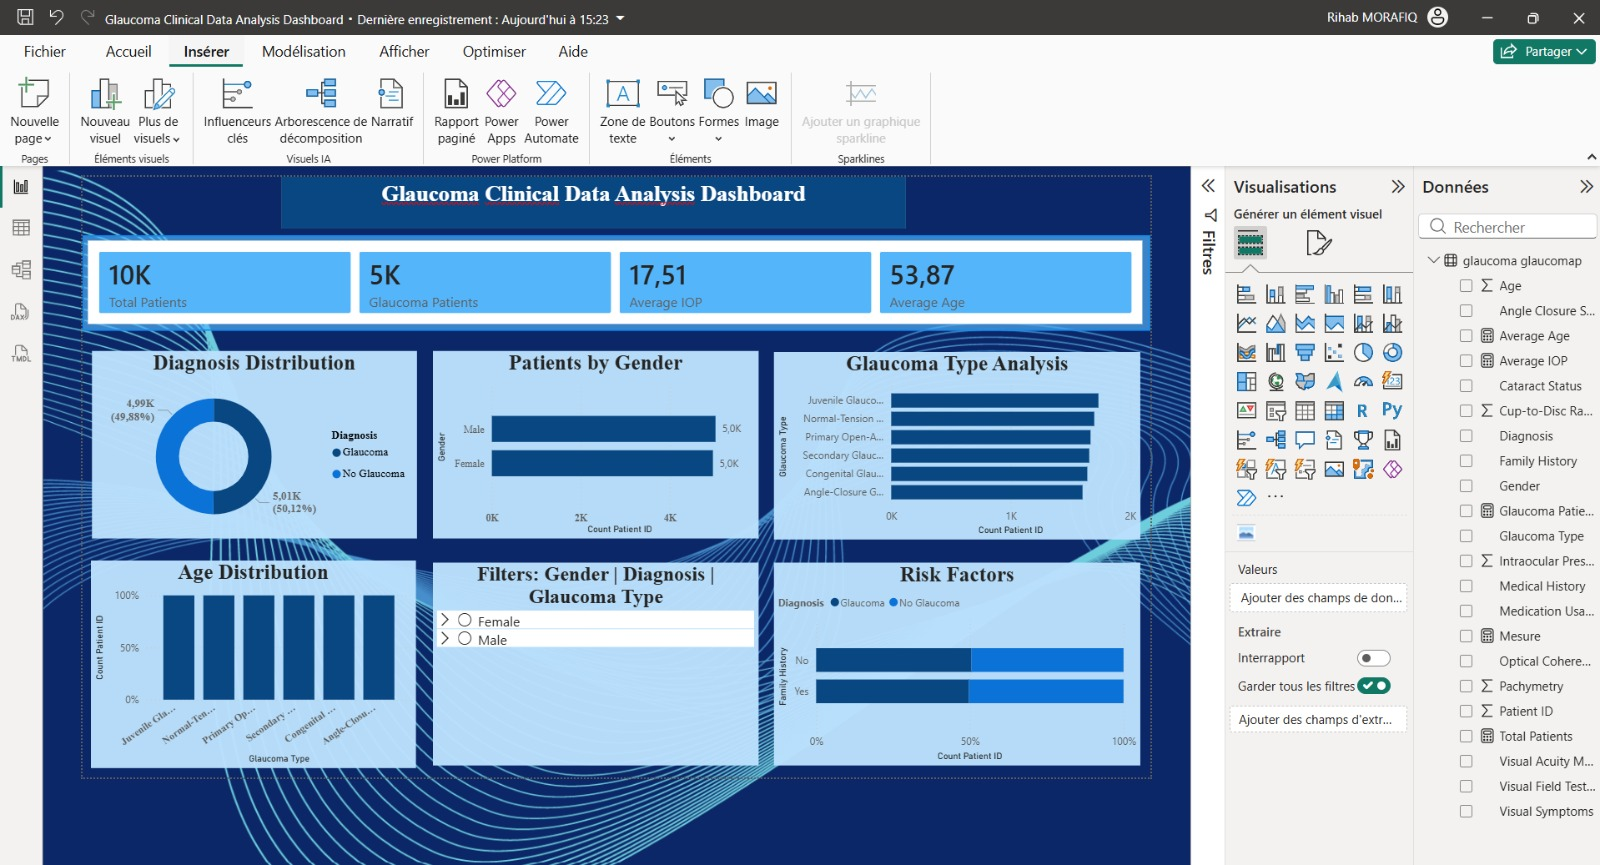

What the dashboard file says about the page in this screenshot:
{"tool":"powerbi","page":{"name":"Page 1","canvas":[1280,720],"ordinal":0},"visuals":[{"type":"cardVisual","fields":{"Data":["glaucoma glaucomap.Total Patients","glaucoma glaucomap.Glaucoma Patients","glaucoma glaucomap.Average IOP","glaucoma glaucomap.Average Age"]},"box":[0,70.2,1279.8,114.3],"z":0},{"type":"donutChart","title":"Diagnosis Distribution","fields":{"Category":["glaucoma glaucomap.Diagnosis"],"Y":["CountNonNull(glaucoma glaucomap.Patient ID)"]},"box":[10.7,208.3,389.3,225],"z":1},{"type":"barChart","title":"Patients by Gender","fields":{"Category":["glaucoma glaucomap.Gender"],"Y":["CountNonNull(glaucoma glaucomap.Patient ID)"]},"box":[420.2,208.3,390.5,225],"z":2},{"type":"barChart","title":"Glaucoma Type Analysis","fields":{"Category":["glaucoma glaucomap.Glaucoma Type"],"Y":["CountNonNull(glaucoma glaucomap.Patient ID)"]},"box":[828.6,209.5,439.3,225],"z":3},{"type":"hundredPercentStackedColumnChart","title":"Age Distribution","fields":{"Category":["glaucoma glaucomap.Glaucoma Type"],"Y":["CountNonNull(glaucoma glaucomap.Patient ID)"]},"box":[9.5,459.5,389.3,248.8],"z":4},{"type":"listSlicer","title":"Filters: Gender | Diagnosis | Glaucoma Type","fields":{"Values":["glaucoma glaucomap.Gender","glaucoma glaucomap.Diagnosis","glaucoma glaucomap.Glaucoma Type"]},"box":[420.2,463.1,390.5,242.9],"z":5},{"type":"hundredPercentStackedBarChart","title":"Risk Factors","fields":{"Category":["glaucoma glaucomap.Family History"],"Y":["CountNonNull(glaucoma glaucomap.Patient ID)"],"Series":["glaucoma glaucomap.Diagnosis"]},"box":[828.6,463.1,439.3,242.9],"z":6},{"type":"shape","box":[239.3,0,747.6,61.9],"z":7},{"type":"textbox","box":[239.3,0,747.6,61.9],"z":8}]}

Visuals, with their boxes on the page's 1280x720 design canvas (x1, y1, x2, y2). These are canvas units, not pixel positions in the 1600x865 screenshot, which may show the page scaled, cropped or inside an application window:
cardVisual - glaucoma glaucomap.Total Patients x glaucoma glaucomap.Glaucoma Patients: <region>0, 70, 1280, 184</region>
"Diagnosis Distribution" donutChart: <region>11, 208, 400, 433</region>
"Patients by Gender" barChart: <region>420, 208, 811, 433</region>
"Glaucoma Type Analysis" barChart: <region>829, 210, 1268, 434</region>
"Age Distribution" hundredPercentStackedColumnChart: <region>10, 460, 399, 708</region>
"Filters: Gender | Diagnosis | Glaucoma Type" listSlicer: <region>420, 463, 811, 706</region>
"Risk Factors" hundredPercentStackedBarChart: <region>829, 463, 1268, 706</region>
shape: <region>239, 0, 987, 62</region>
textbox: <region>239, 0, 987, 62</region>
